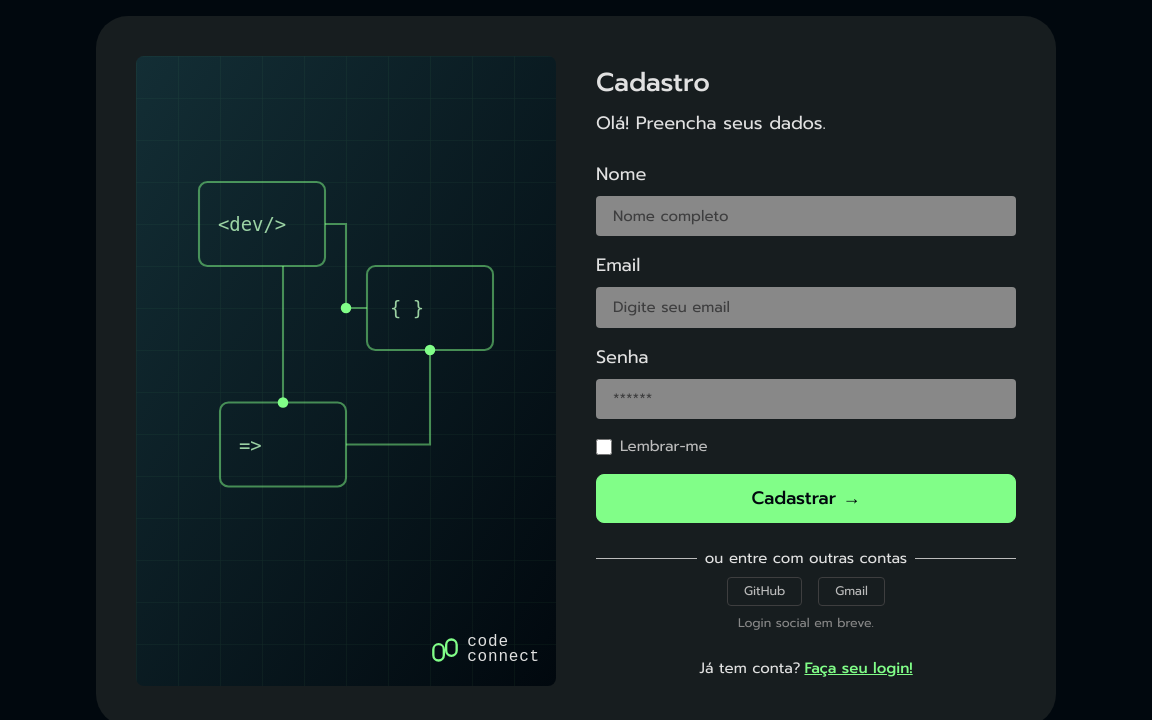
Test: Página de Cadastro › valida o formato do email
Type "Milena" into the field labelled "Nome".
click(806, 216); type("Milena")  # box [596,196,1016,236]
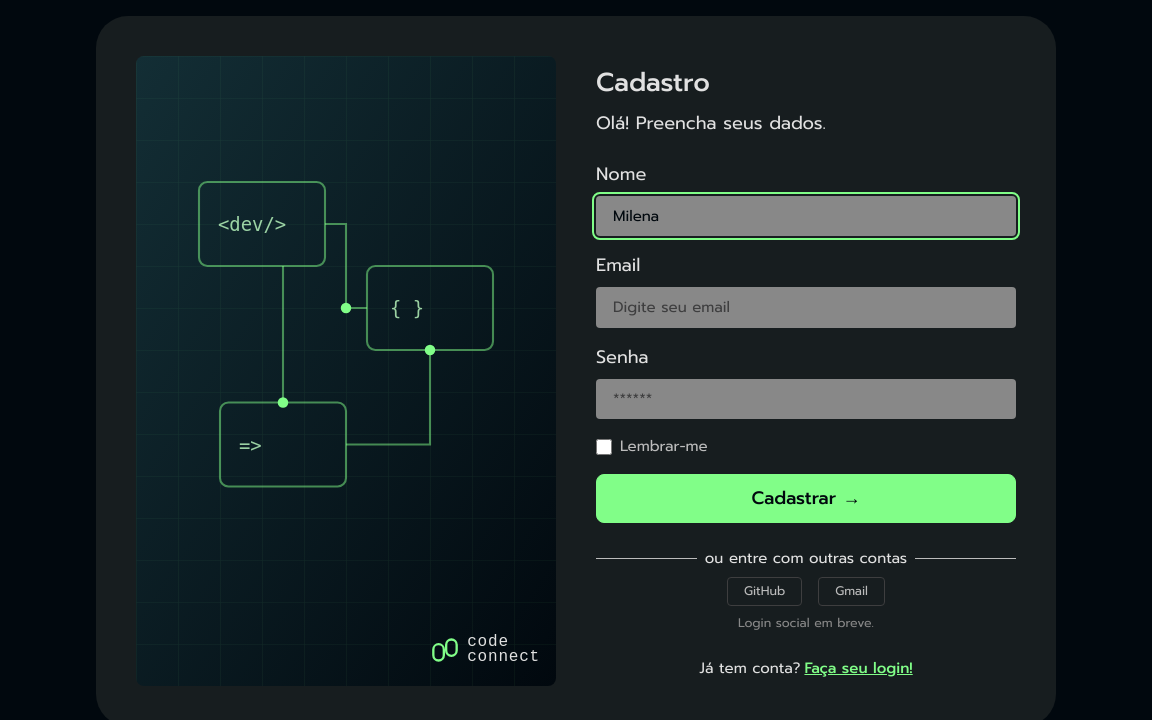
Type "milena@" into the field labelled "Email".
click(806, 308); type("milena@")  # box [596,287,1016,328]
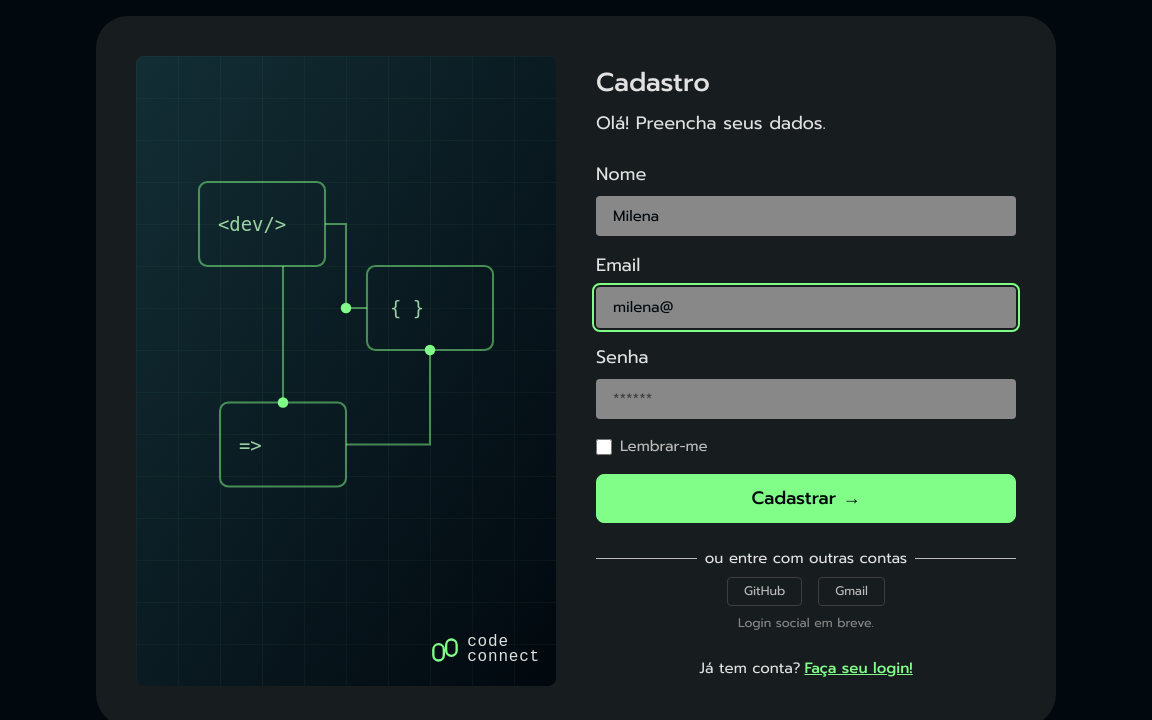
Type "123456" into the password field labelled "Senha".
click(806, 399); type("123456")  # box [596,379,1016,419]
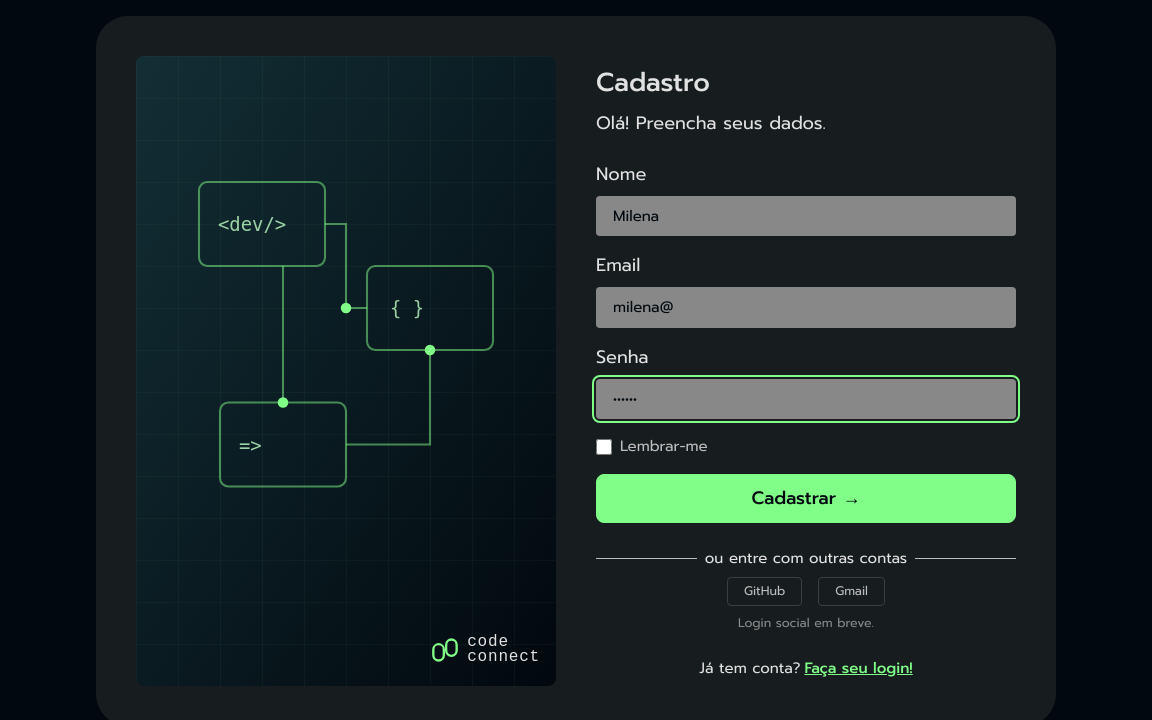
Click the button "Cadastrar →".
click(806, 498)  # box [596,474,1016,523]
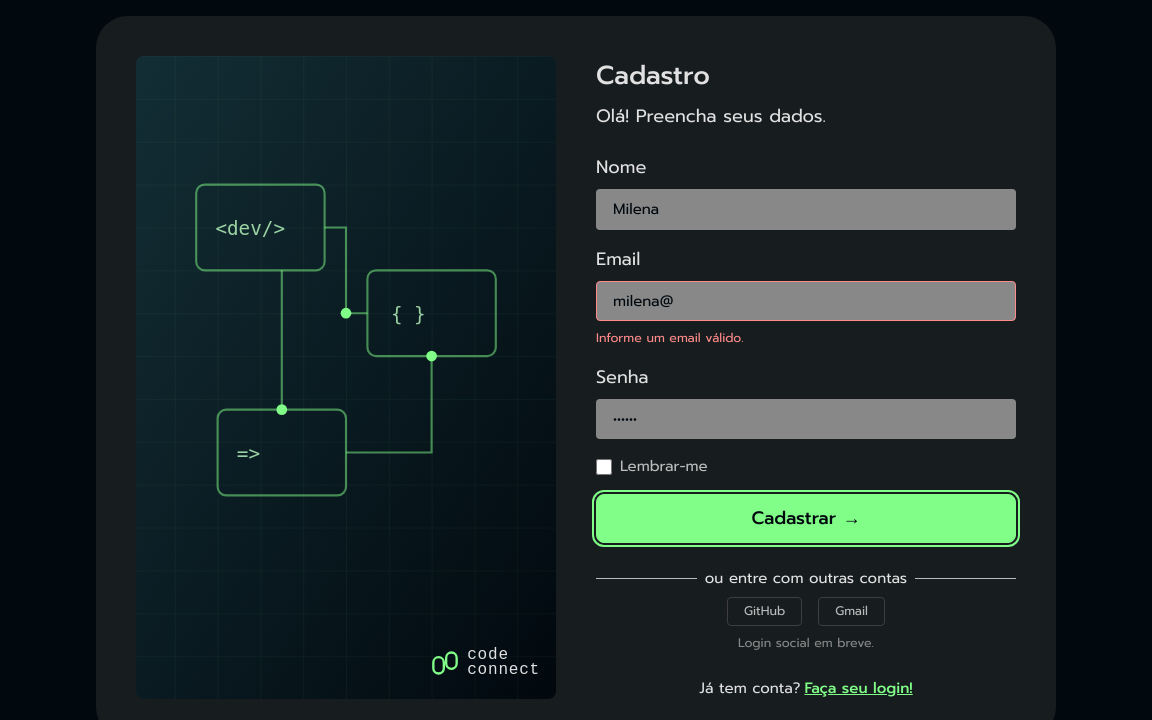
Expected: the text "Informe um email válido." is shown, [596,328,744,347]
